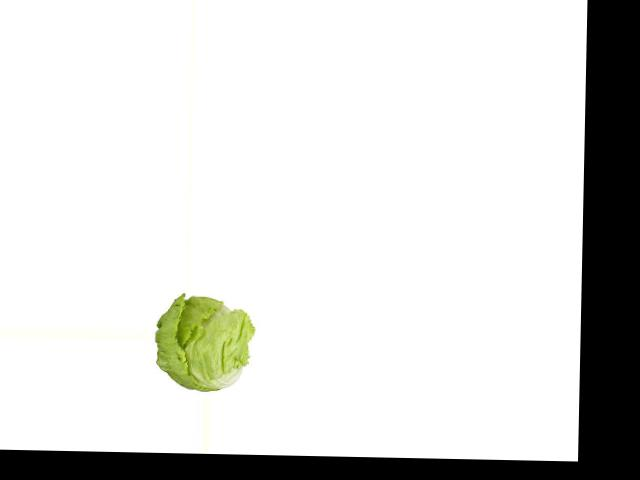lettuce: (154, 294, 251, 395)
